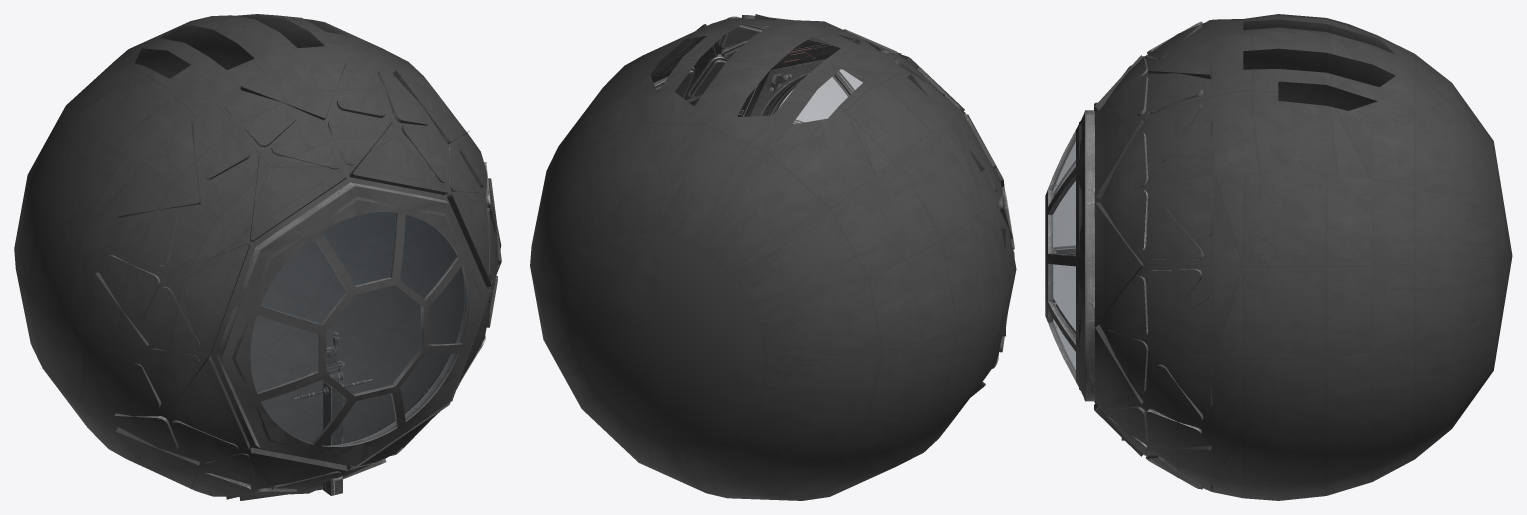
The model's file is tieadvancedcockpit.glb.
3 views of the same model, side by side, from view 1: azimuth 30°, elevation 25°; view 2: azimuth 150°, elevation 25°; view 3: azimuth 270°, elevation 25° (orthographic).
Bounding box in the file's own units: 2.12 × 2.12 × 2.02.
3 materials, 2 textured.
